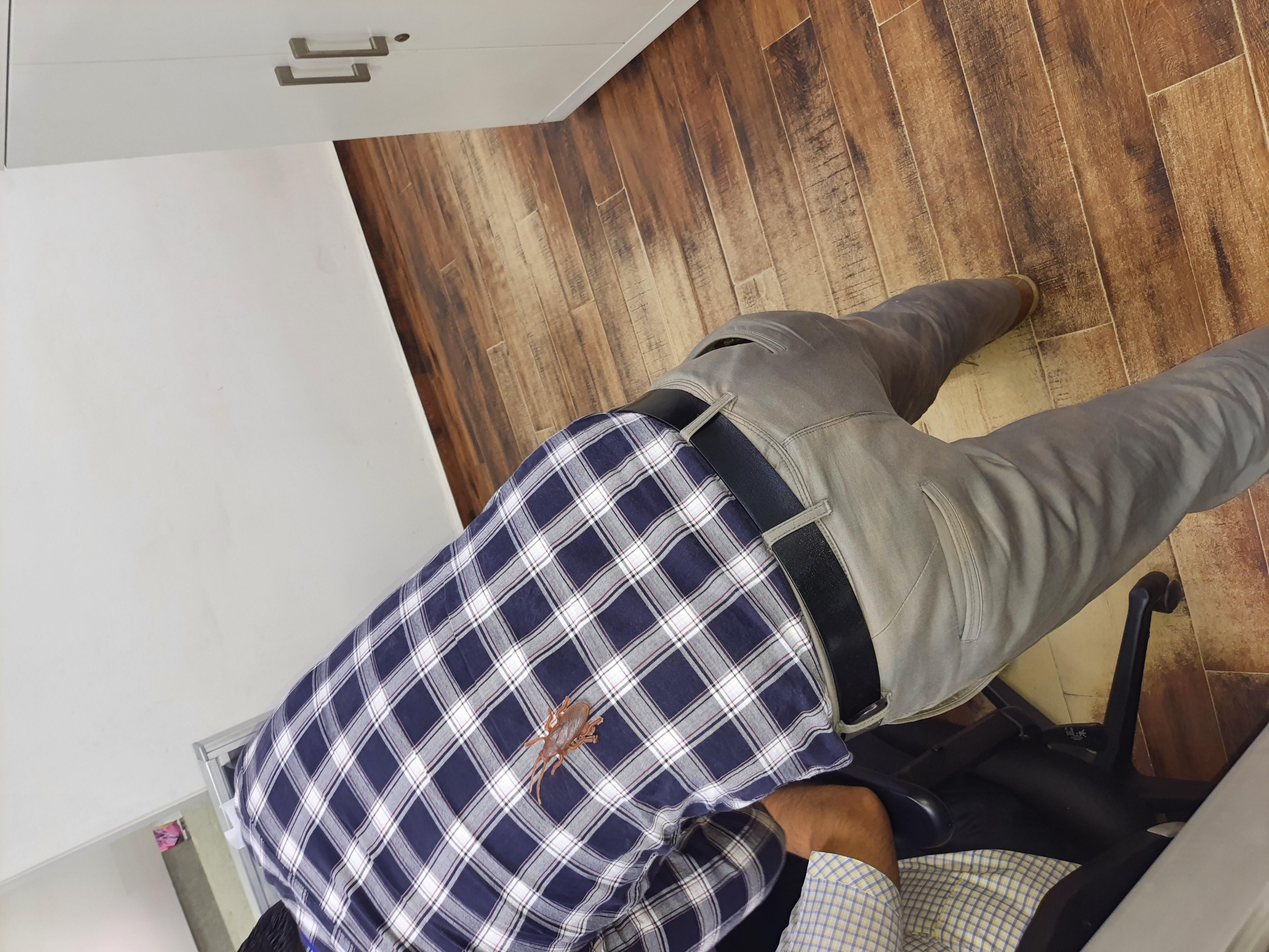cockroach: (202, 379, 366, 471)
